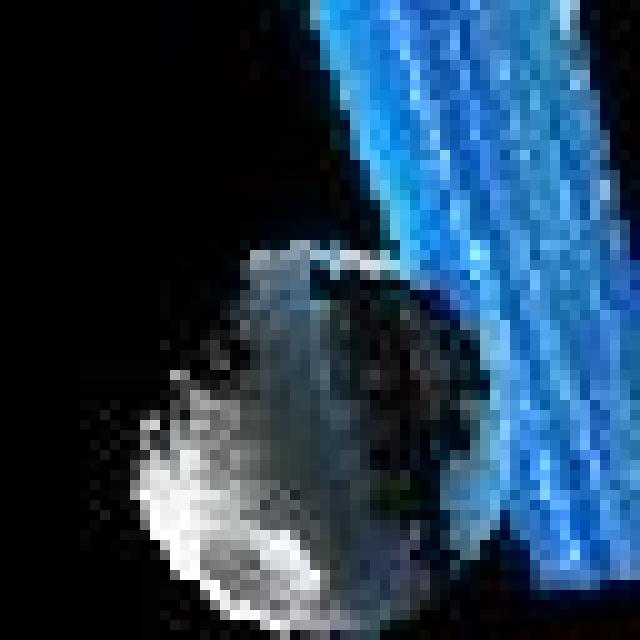Death Star: (132, 241, 532, 636)
